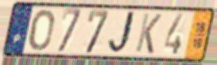4: (162, 12, 185, 57)
7: (57, 7, 83, 56), (85, 9, 111, 56)
J: (107, 10, 139, 56)
K: (134, 12, 163, 56)
O: (28, 8, 55, 53)
